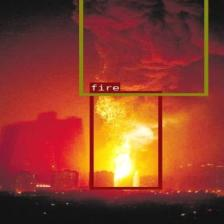fire: (90, 90, 162, 189)
smoke: (78, 0, 207, 95)
